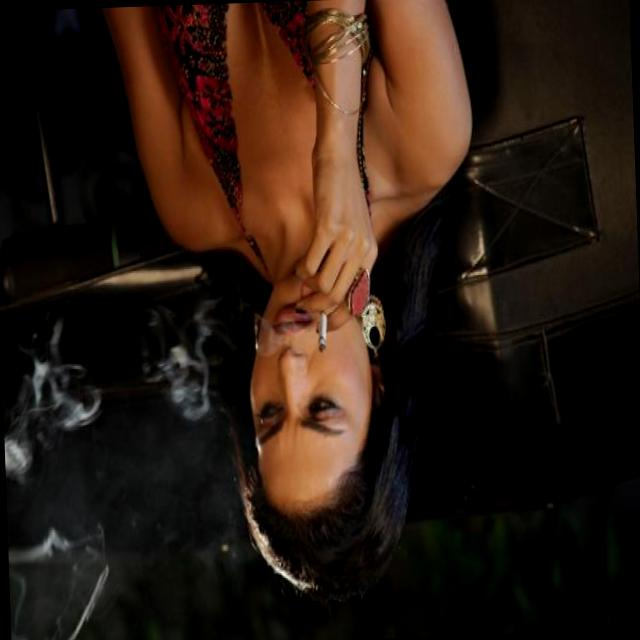cigarette: (316, 299, 336, 370)
